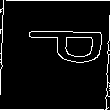P_E: (7, 36, 103, 74)
